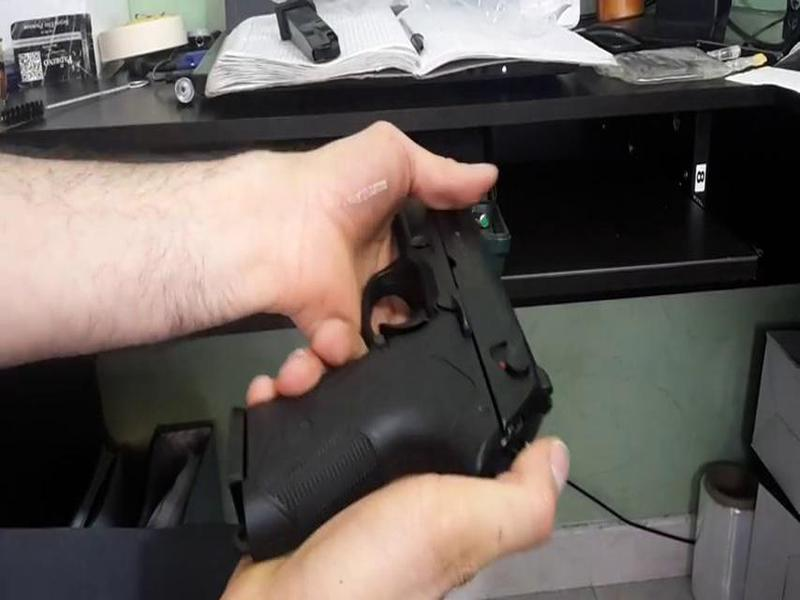Pistola: (211, 115, 565, 539)
